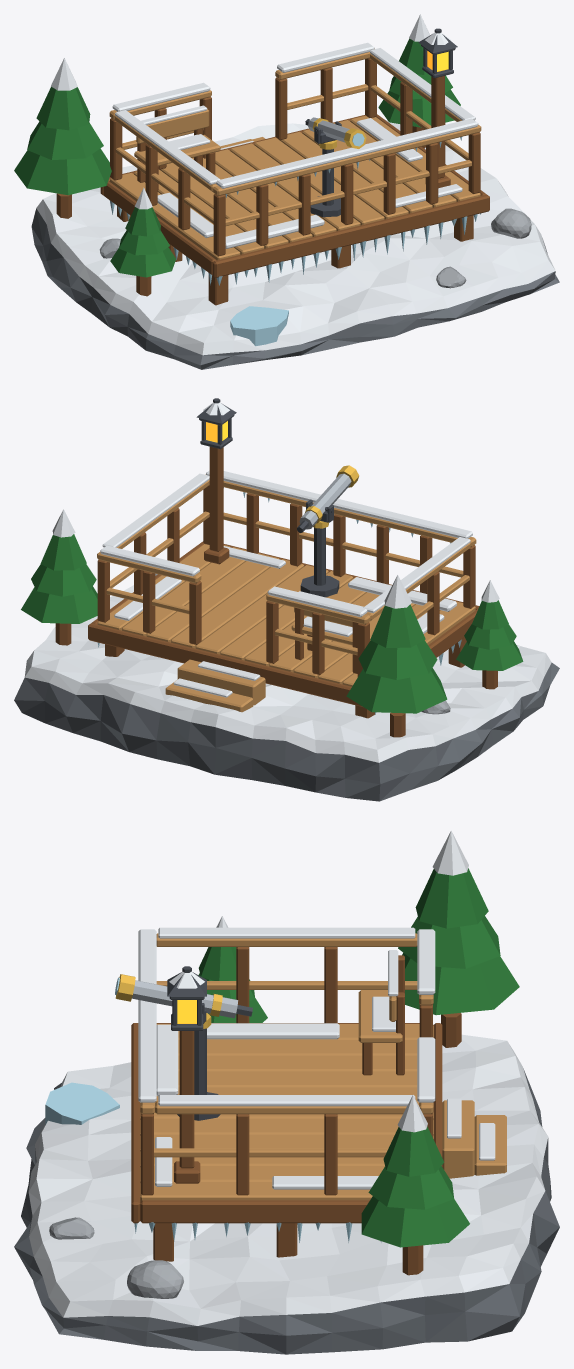
File: winter-ridge-viewpoint.glb
3 renders of one model, top to bottom at view 1: azimuth 30°, elevation 25°; view 2: azimuth 150°, elevation 25°; view 3: azimuth 270°, elevation 25°, orthographic. The views are drawn at different scales.
Visible parts, largest first — view 1: Ground_SnowRidge, Deck_Rim_Front, Pine_A_Tier0, Snow_Rail_Front, Pine_A_Tier1, Rail_Top_Front, Pine_A_Tier2, Ice_Patch, Rail_Mid_Front, Deck_Plank_06, Deck_Plank_00, Deck_Rim_L (+52 smaller); view 2: Ground_SnowRidge, Deck_Rim_Back, Pine_A_Tier0, Snow_Rail_Front, Deck_Plank_07, Pine_A_Tier1, Deck_Plank_08, Pine_B_Tier0, Deck_Plank_06, Deck_Plank_09, Pine_A_Tier2, Stair_Step_0 (+46 smaller); view 3: Ground_SnowRidge, Deck_Rim_R, Pine_A_Tier0, Pine_B_Tier0, Deck_Plank_03, Deck_Plank_06, Deck_Plank_02, Deck_Plank_10, Pine_A_Tier2, Snow_Rail_L, Deck_Plank_01, Snow_Rail_R (+45 smaller).
Boxes of the visible parts, box(x1,y1,x2,y2) form: Ground_SnowRidge: box(31, 119, 559, 369); Deck_Rim_Front: box(213, 194, 489, 277); Pine_A_Tier0: box(14, 148, 111, 195); Snow_Rail_Front: box(216, 118, 478, 188); Pine_A_Tier1: box(27, 121, 103, 159); Rail_Top_Front: box(213, 125, 481, 195); Pine_A_Tier2: box(36, 87, 90, 130); Ice_Patch: box(230, 306, 288, 346); Rail_Mid_Front: box(225, 160, 471, 225); Deck_Plank_06: box(254, 137, 384, 225); Deck_Plank_00: box(110, 173, 240, 260); Deck_Rim_L: box(104, 181, 216, 275); Ground_SnowRidge: box(14, 585, 559, 801); Deck_Rim_Back: box(88, 623, 363, 707); Pine_A_Tier0: box(346, 668, 447, 713); Snow_Rail_Front: box(206, 470, 472, 538); Deck_Plank_07: box(171, 559, 304, 648); Pine_A_Tier1: box(358, 640, 437, 679); Deck_Plank_08: box(146, 553, 278, 642); Pine_B_Tier0: box(21, 586, 97, 623); Deck_Plank_06: box(195, 565, 328, 654); Deck_Plank_09: box(122, 547, 246, 636); Pine_A_Tier2: box(370, 604, 425, 647); Stair_Step_0: box(177, 659, 265, 705); Ground_SnowRidge: box(14, 1034, 559, 1354); Deck_Rim_R: box(140, 1200, 369, 1223); Pine_A_Tier0: box(402, 953, 519, 1015); Pine_B_Tier0: box(361, 1196, 469, 1247); Deck_Plank_03: box(178, 1071, 417, 1087); Deck_Plank_06: box(140, 1118, 433, 1135); Deck_Plank_02: box(178, 1055, 417, 1071); Deck_Plank_10: box(140, 1182, 372, 1201); Pine_A_Tier2: box(415, 868, 488, 928); Snow_Rail_L: box(158, 927, 415, 938); Deck_Plank_01: box(178, 1040, 417, 1055); Snow_Rail_R: box(158, 1095, 415, 1106).
Bounding box in the file's own units: 22.58 × 11.94 × 18.61.
